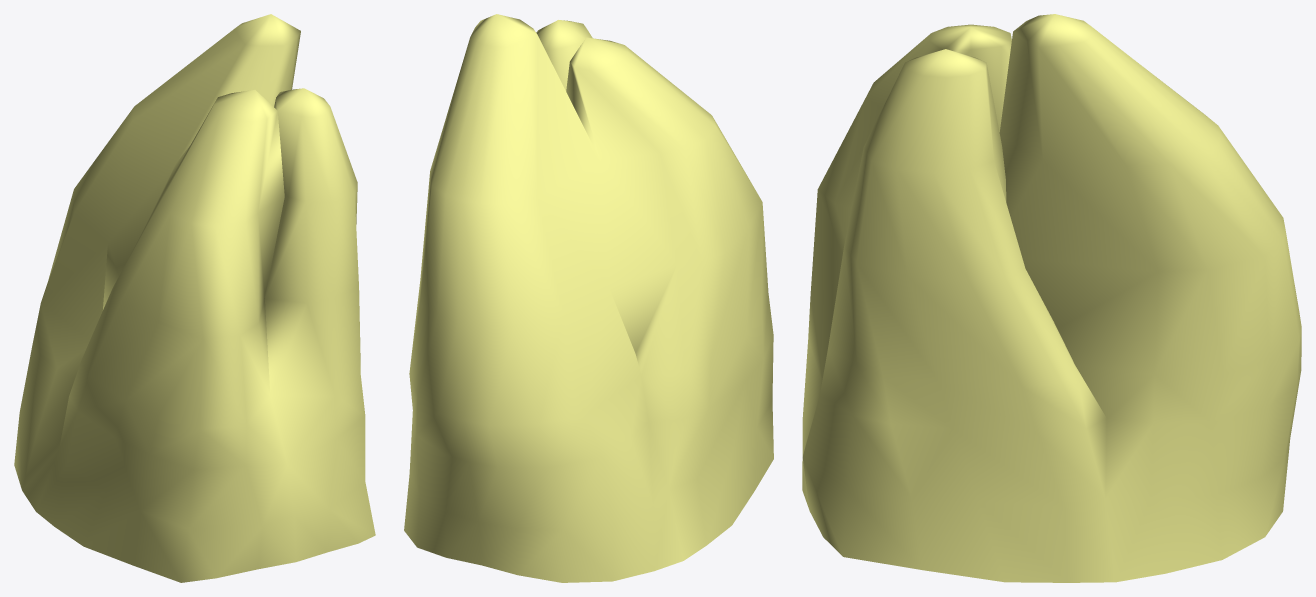
Rendered from D28R_Raiz.obj.
3 views of the same model, side by side, from view 1: azimuth 30°, elevation 25°; view 2: azimuth 150°, elevation 25°; view 3: azimuth 270°, elevation 25° (orthographic). The views are drawn at different scales.
Parts seen in each view (by area): view 1: D28R_Raiz; view 2: D28R_Raiz; view 3: D28R_Raiz.
Part boxes in pixels (bbox=[...]): D28R_Raiz: bbox=[14, 14, 375, 582]; D28R_Raiz: bbox=[404, 14, 773, 582]; D28R_Raiz: bbox=[802, 14, 1301, 582].
Bounding box in the file's own units: 6.56 × 11.4 × 9.49.
